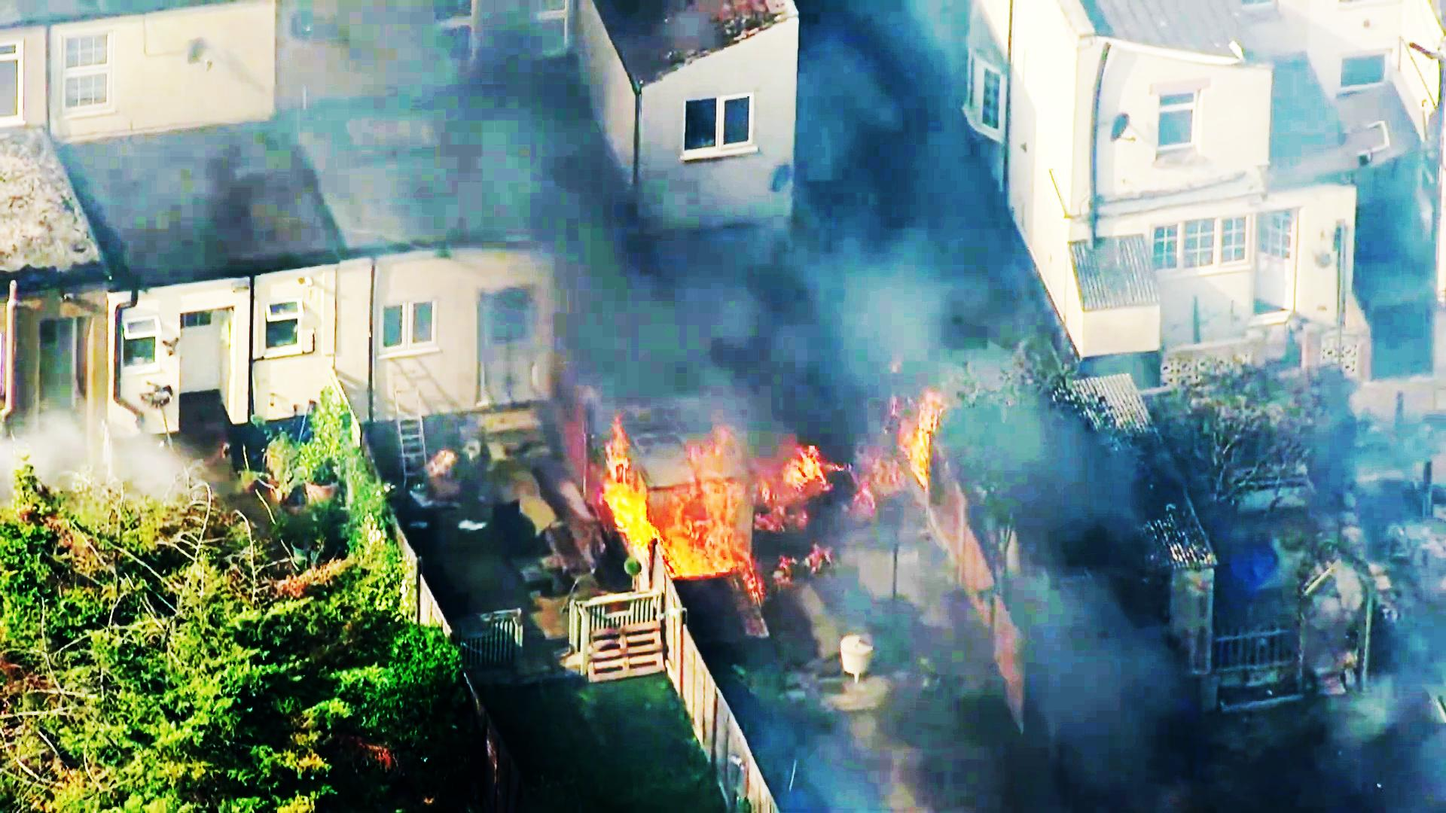fire: (567, 381, 957, 583)
